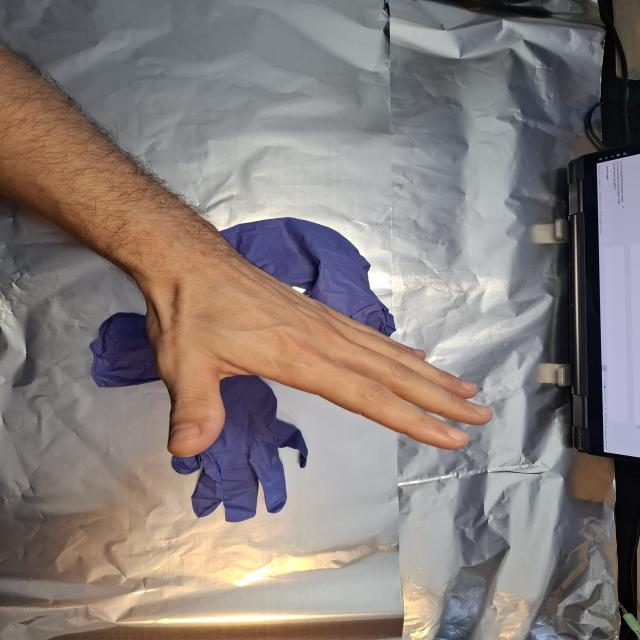glove_off: (142, 265, 499, 459)
